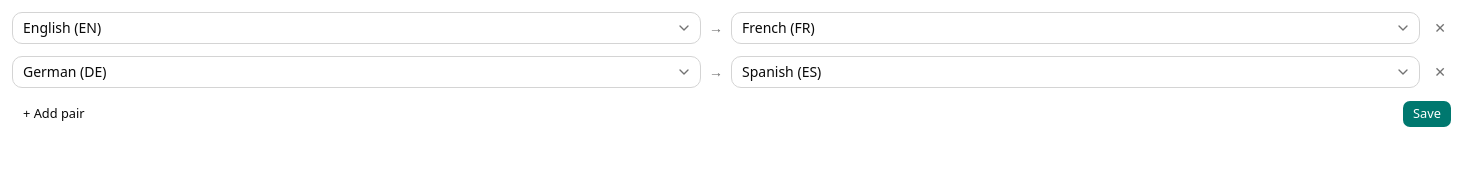
it: LanguagePairsSection › Remove pair deletes the row at that index
Click the button named "Remove pair": (1440, 28) [1428,16,1452,40]
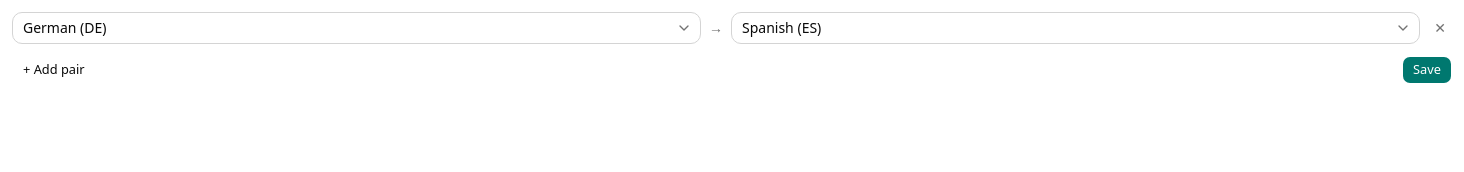
Now the number of buttons named "Remove pair" is 1, box [1428,16,1452,40]
